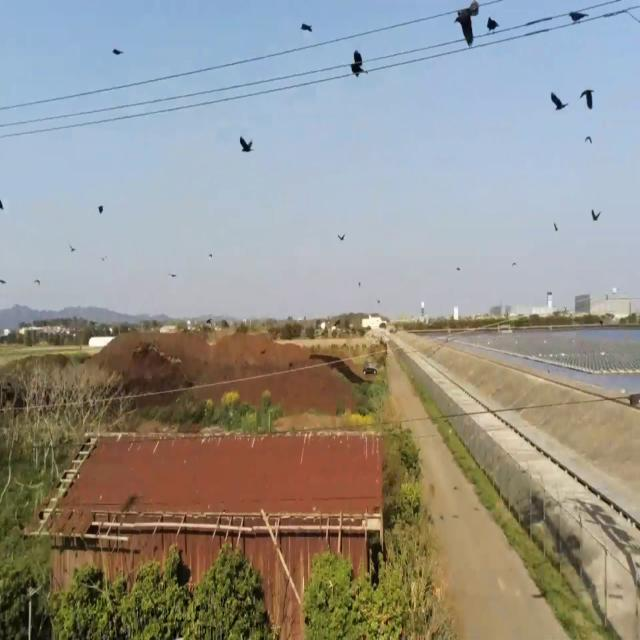bird: (456, 4, 474, 54), (350, 40, 364, 85), (550, 84, 566, 118), (581, 80, 594, 116), (238, 130, 253, 158), (486, 8, 498, 41), (570, 4, 584, 30), (301, 13, 312, 40), (591, 202, 601, 225), (112, 40, 122, 62), (338, 228, 345, 244), (98, 200, 104, 218), (0, 191, 4, 216), (70, 240, 76, 256), (0, 271, 5, 289)
